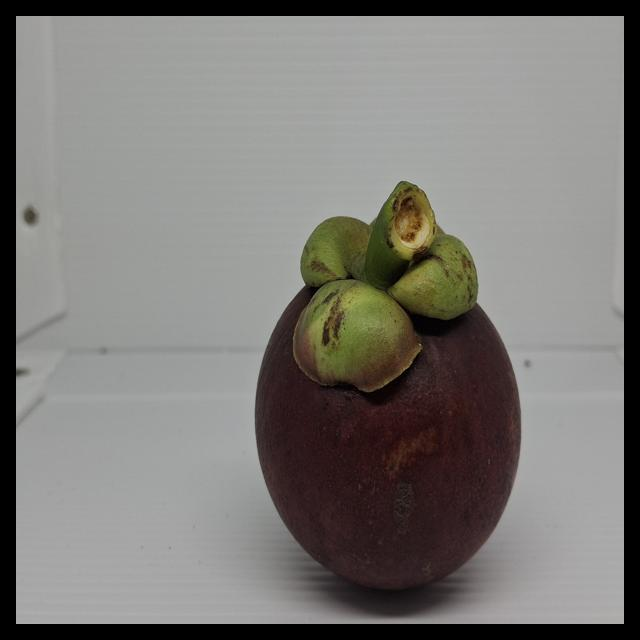mangosteen: (249, 185, 547, 622)
